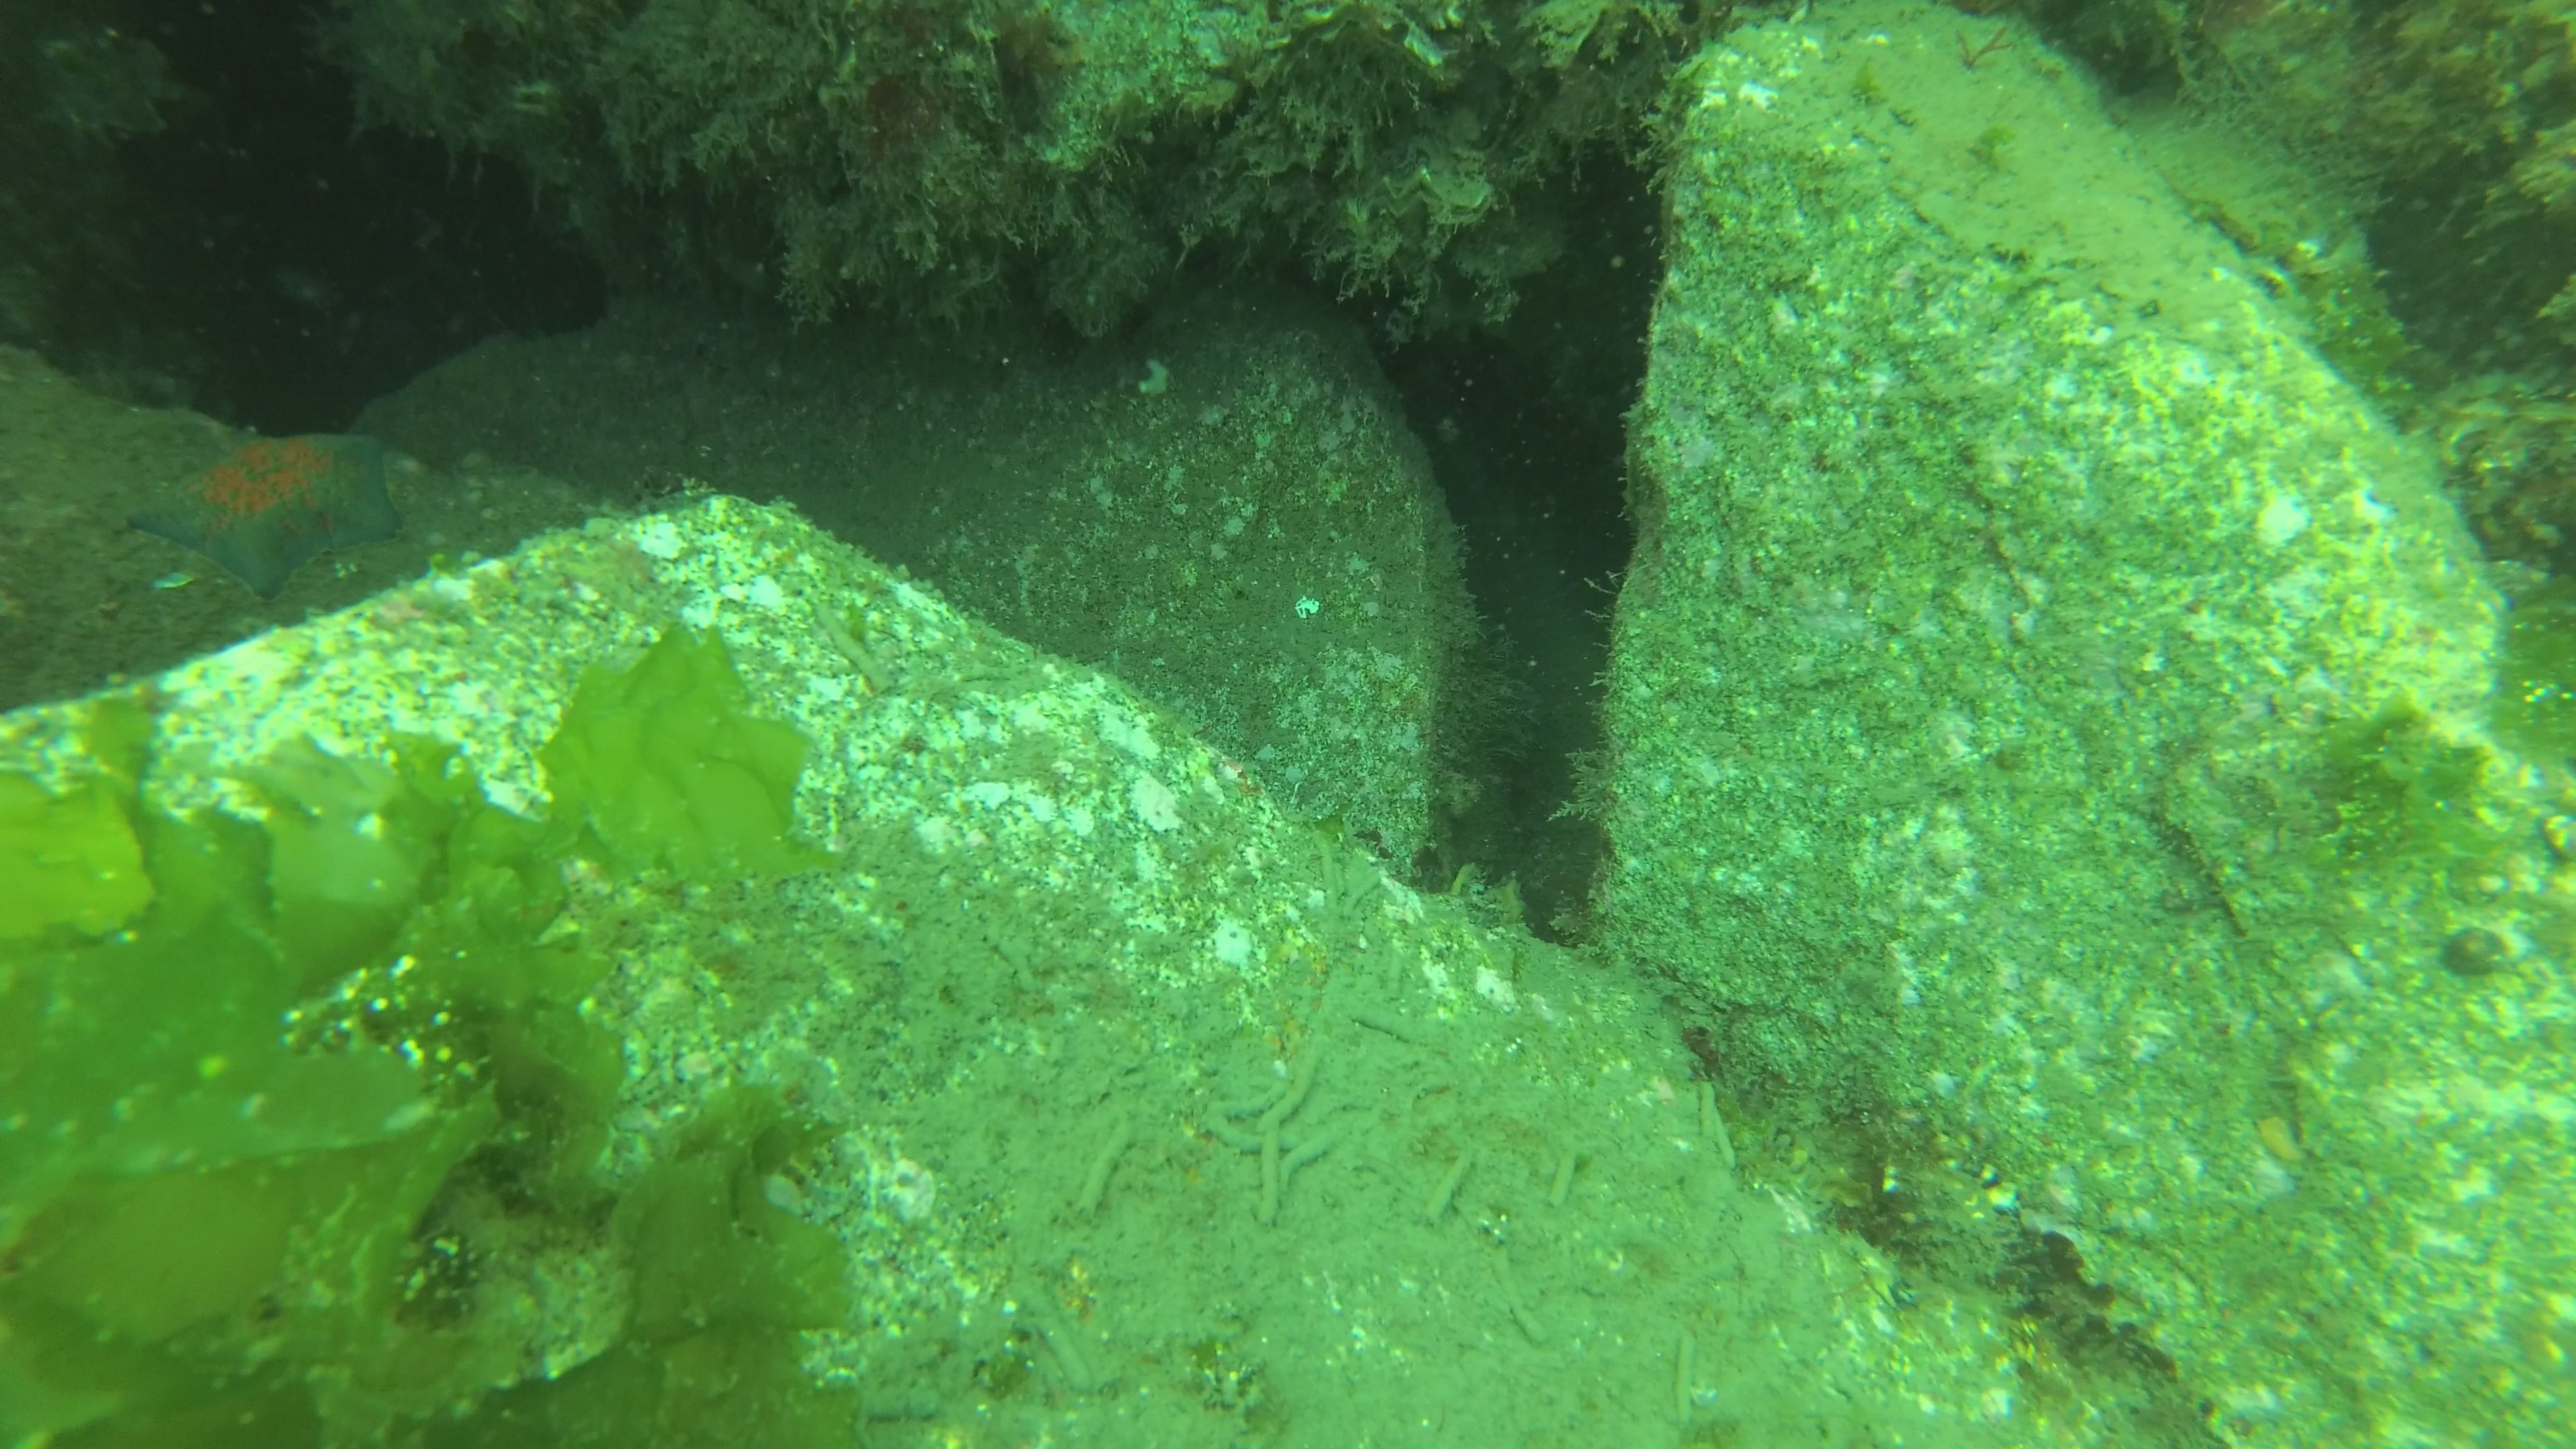starfish: (122, 430, 405, 605)
